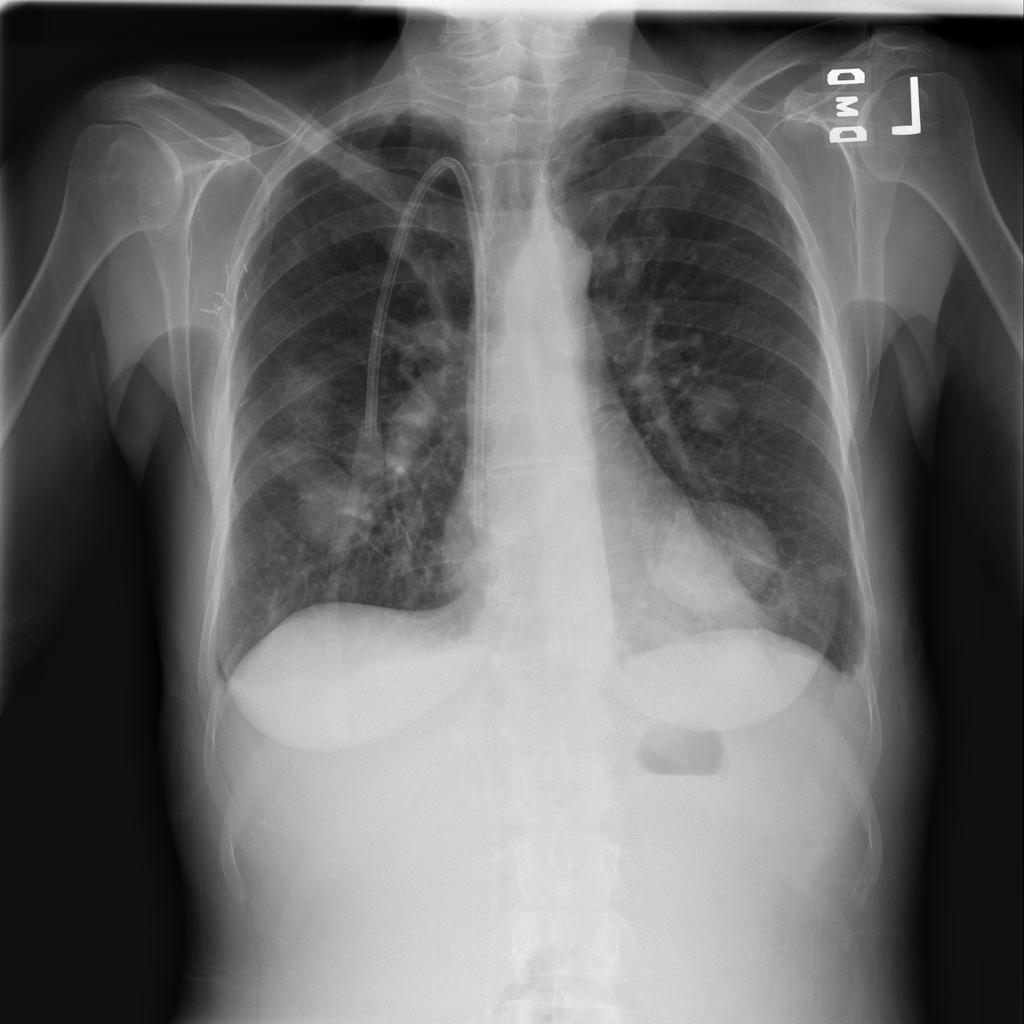nodule: (637, 491, 784, 628), (286, 457, 389, 568), (254, 342, 354, 456), (675, 370, 753, 446), (804, 547, 856, 595)
